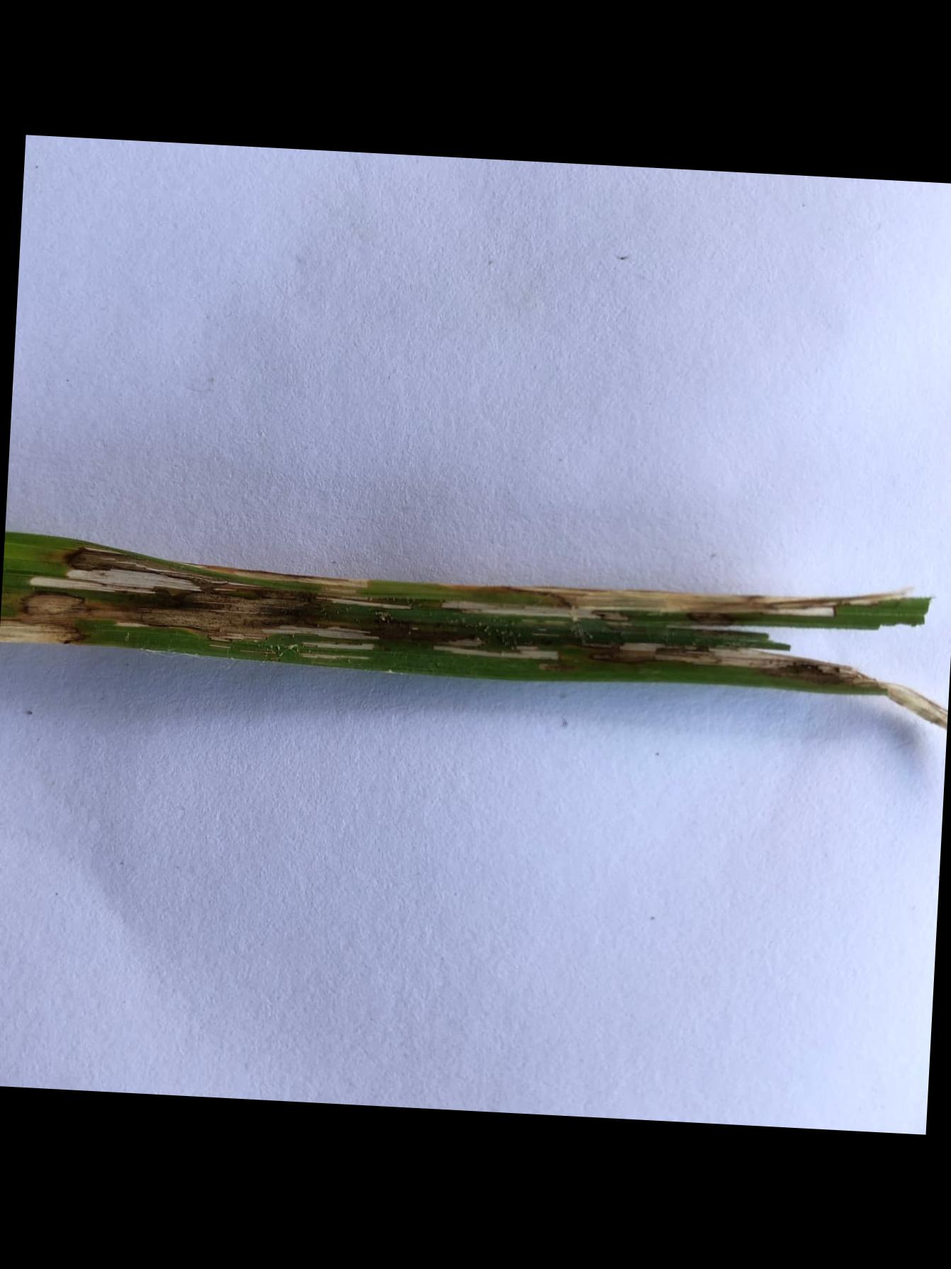Leaf Blight: (434, 583, 947, 734), (0, 550, 414, 643)
